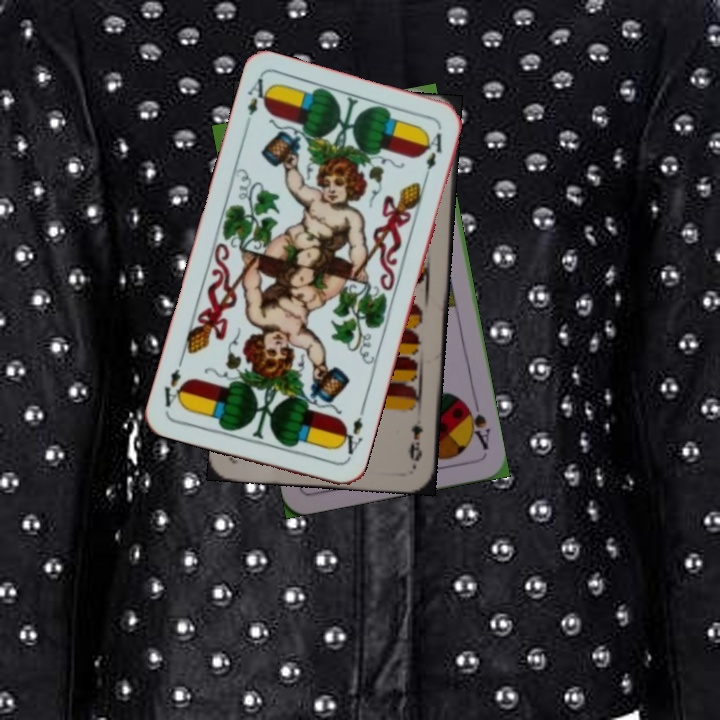E9: (406, 421, 426, 468)
EA: (335, 405, 367, 463), (243, 74, 274, 118)
SA: (460, 395, 493, 452)
